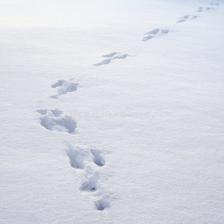rabbit: (92, 49, 130, 67)
